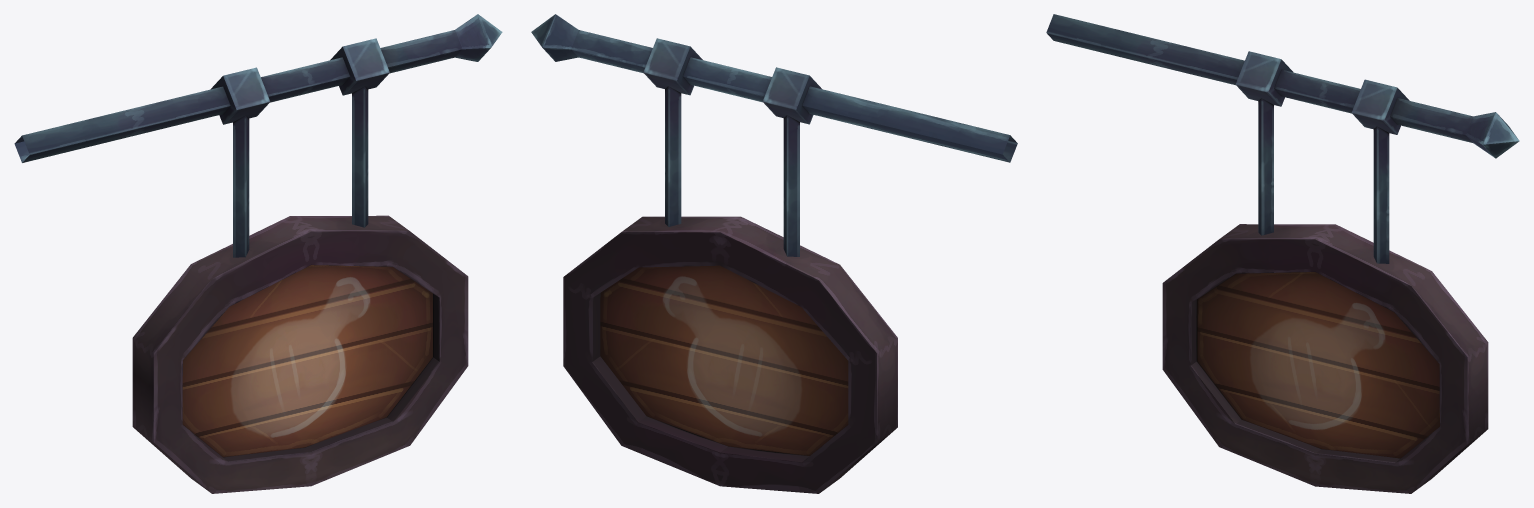
The model's file is building_sign_03.fbx.
3 renders of one model, left to right at view 1: azimuth 30°, elevation 25°; view 2: azimuth 150°, elevation 25°; view 3: azimuth 330°, elevation 25°, orthographic. The views are drawn at different scales.
Visible parts, largest first — view 1: building_sign_03; view 2: building_sign_03; view 3: building_sign_03.
Part boxes in pixels (x1,y1,x2,y2): building_sign_03: [14, 14, 502, 493]; building_sign_03: [531, 14, 1017, 493]; building_sign_03: [1046, 14, 1519, 493].
Size of the model in its own units: 2.43 by 2.04 by 0.2375.
